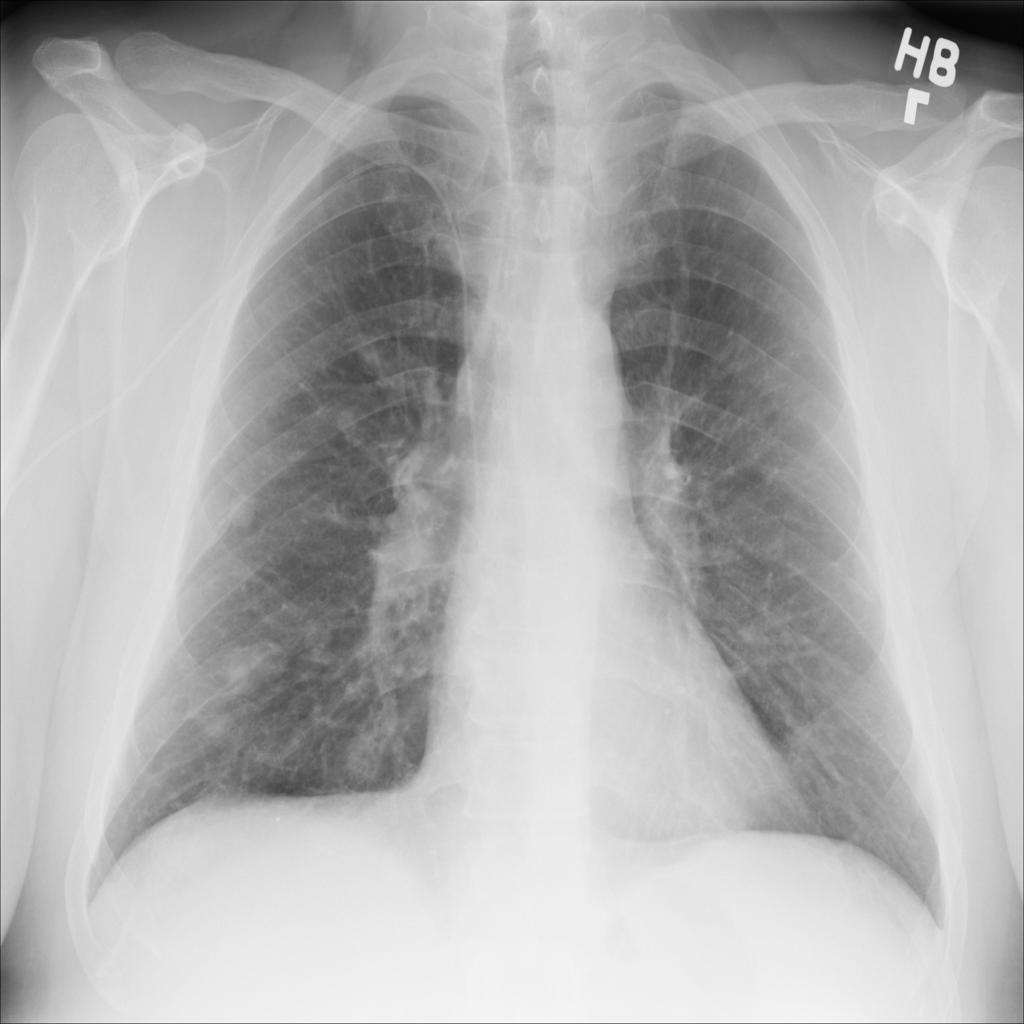nodule: (212, 625, 295, 697), (206, 471, 273, 546), (178, 687, 250, 755), (326, 392, 374, 446)
